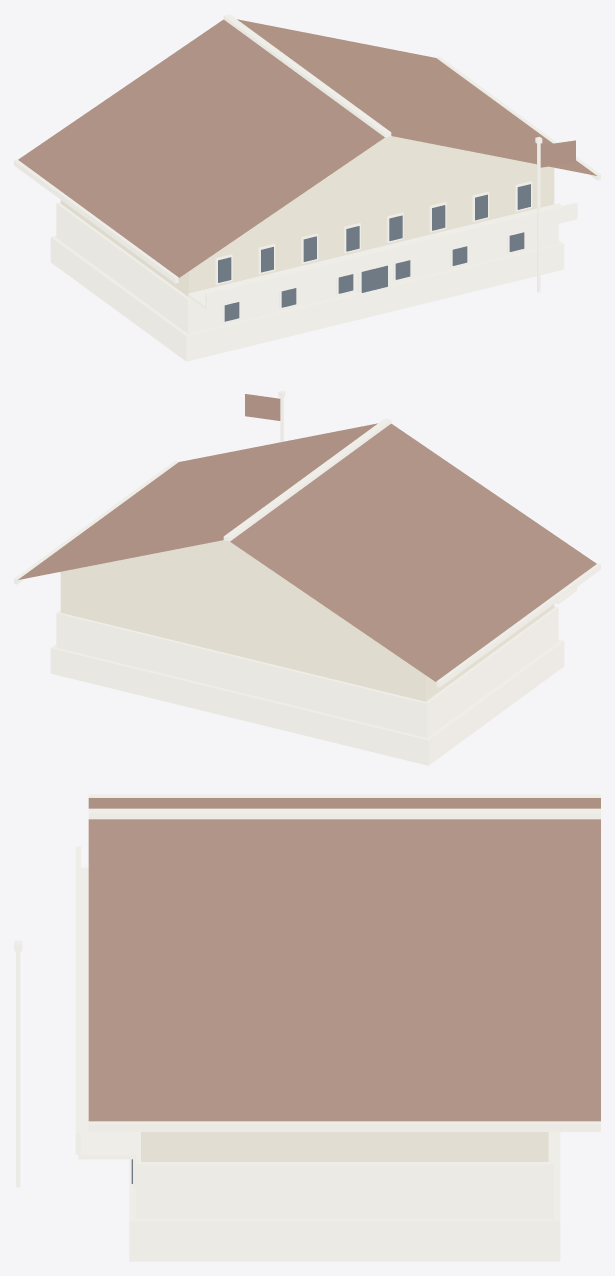
The model's file is Blender_Clubhouse_chalet.glb.
3 renders of one model, top to bottom at view 1: azimuth 30°, elevation 25°; view 2: azimuth 150°, elevation 25°; view 3: azimuth 270°, elevation 25°, orthographic. The views are drawn at different scales.
Parts seen in each view (by area): view 1: Blender_Clubhouse_chalet; view 2: Blender_Clubhouse_chalet; view 3: Blender_Clubhouse_chalet.
Part boxes in pixels (box(x1,y1,x2,y2)): Blender_Clubhouse_chalet: box(14, 14, 600, 361); Blender_Clubhouse_chalet: box(14, 390, 600, 765); Blender_Clubhouse_chalet: box(14, 794, 600, 1261).
Size of the model in its own units: 29.84 by 12.85 by 22.46.
